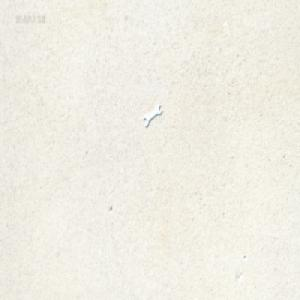Wrench: (143, 105, 162, 128)
